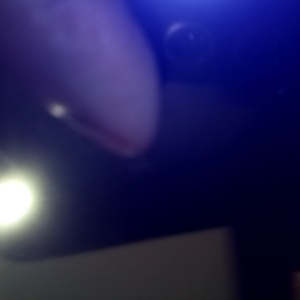alive_ball: (200, 79, 300, 300)
